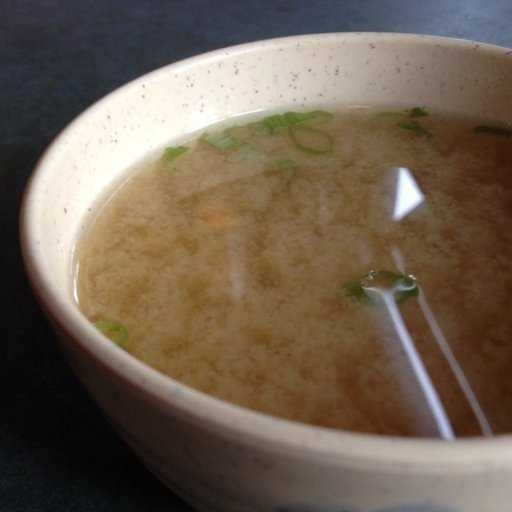soup: (51, 25, 503, 478)
